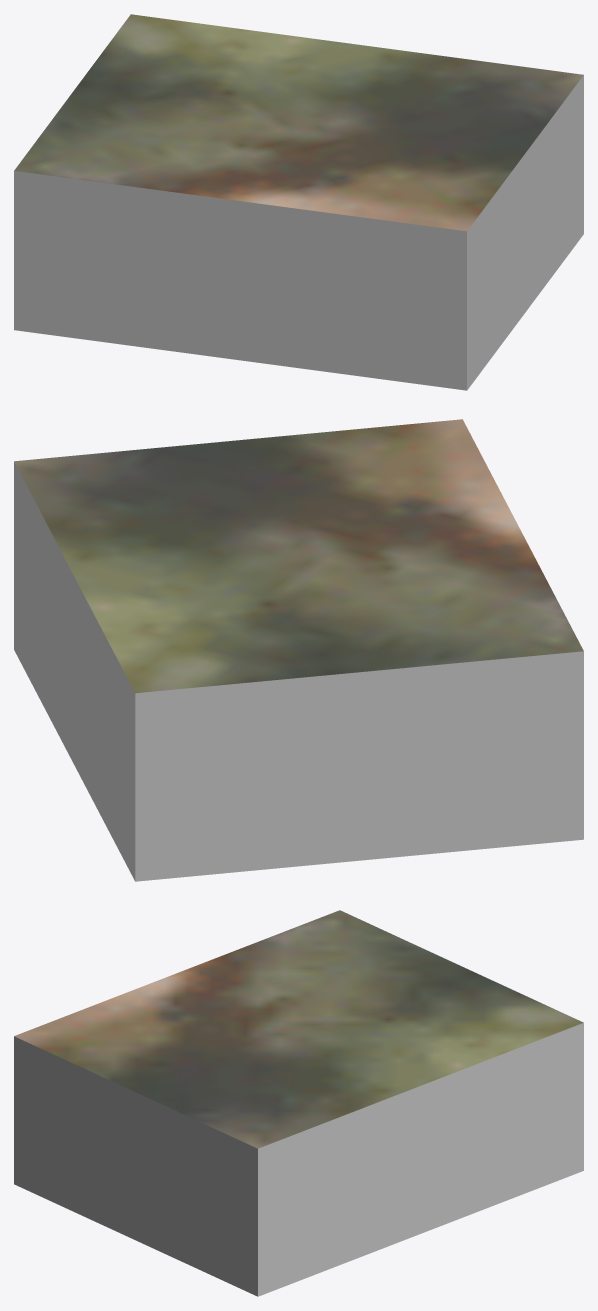
Rendered from DEBW_0010007Txbq.gltf.
The picture shows the model from 3 angles, top to bottom: view 1: azimuth 30°, elevation 25°; view 2: azimuth 150°, elevation 25°; view 3: azimuth 270°, elevation 25°; orthographic projection. The views are drawn at different scales.
Parts seen in each view (by area): view 1: Z_UP; view 2: Z_UP; view 3: Z_UP.
Part boxes in pixels (x1,y1,x2,y2): Z_UP: (14, 14, 583, 390); Z_UP: (14, 419, 583, 881); Z_UP: (14, 910, 583, 1296).
Size of the model in its own units: 9.37 by 2.71 by 9.46.
Materials: 2 (1 with a texture image).
